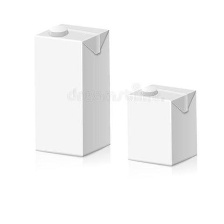carton: (29, 20, 117, 159), (122, 71, 203, 169)
